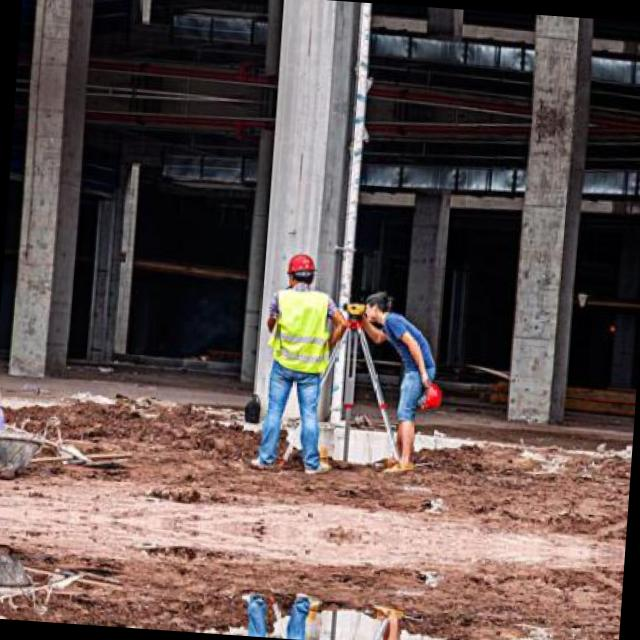helmet: (283, 248, 318, 287)
